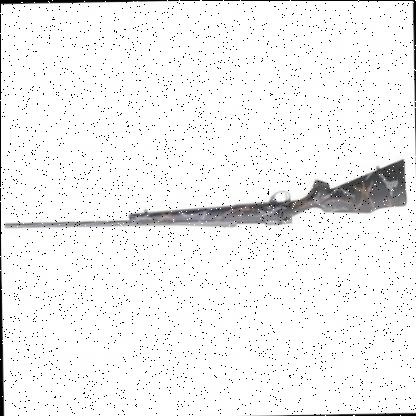rifle: (2, 160, 408, 240)
